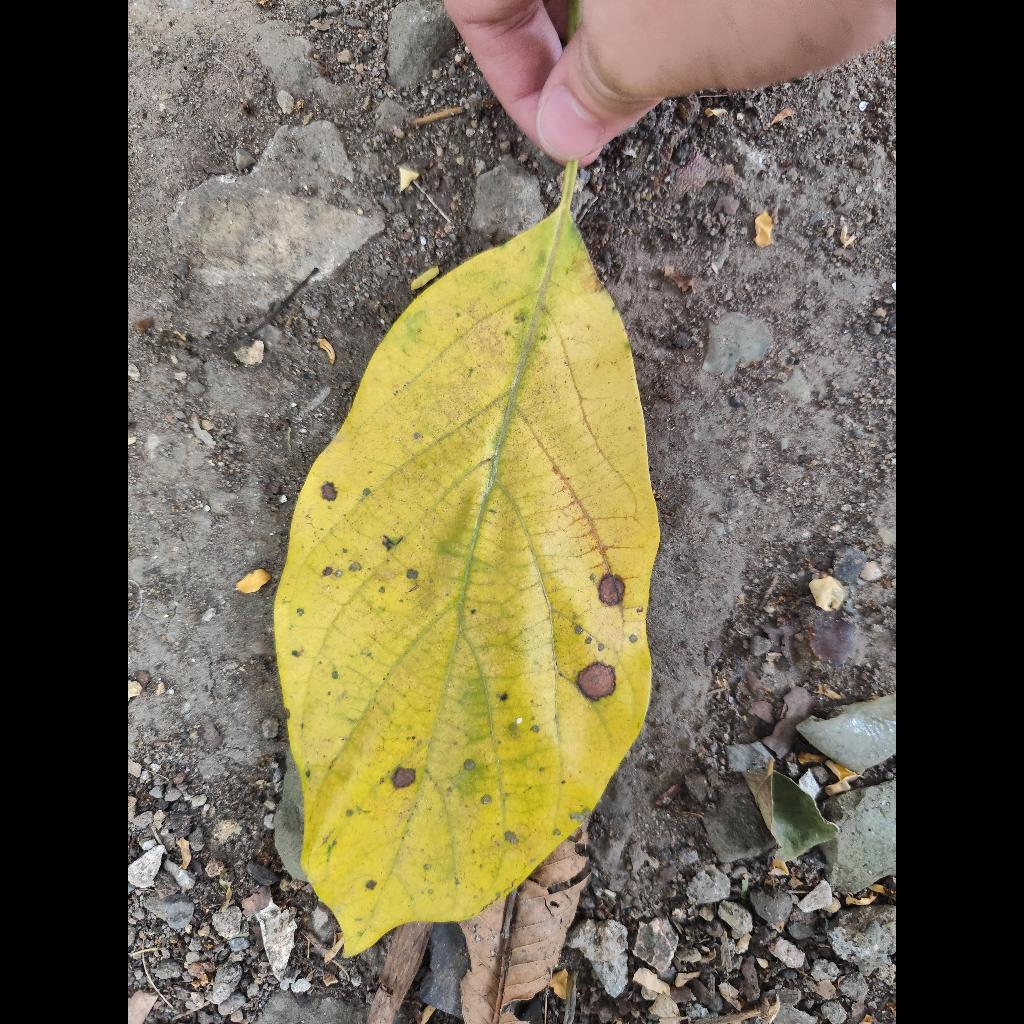nutrient_deficiency: (275, 165, 658, 955)
